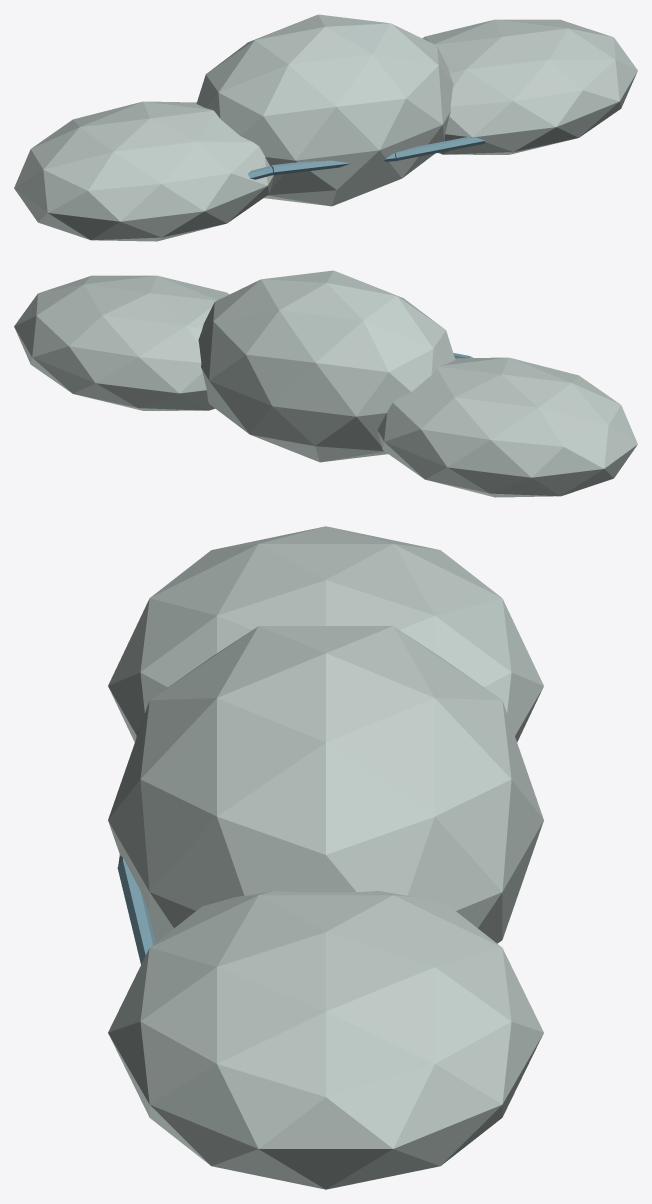
The model's file is map-exclusive-v3__frost_16.glb.
3 renders of one model, top to bottom at view 1: azimuth 30°, elevation 25°; view 2: azimuth 150°, elevation 25°; view 3: azimuth 270°, elevation 25°, orthographic. The views are drawn at different scales.
Parts seen in each view (by area): view 1: frost_16; view 2: frost_16; view 3: frost_16.
Boxes of the visible parts, left/top/right/bottom form: frost_16: left=14, top=14, right=637, bottom=241; frost_16: left=14, top=270, right=637, bottom=497; frost_16: left=108, top=526, right=543, bottom=1189.
Size of the model in its own units: 3.44 by 0.93 by 1.1.
